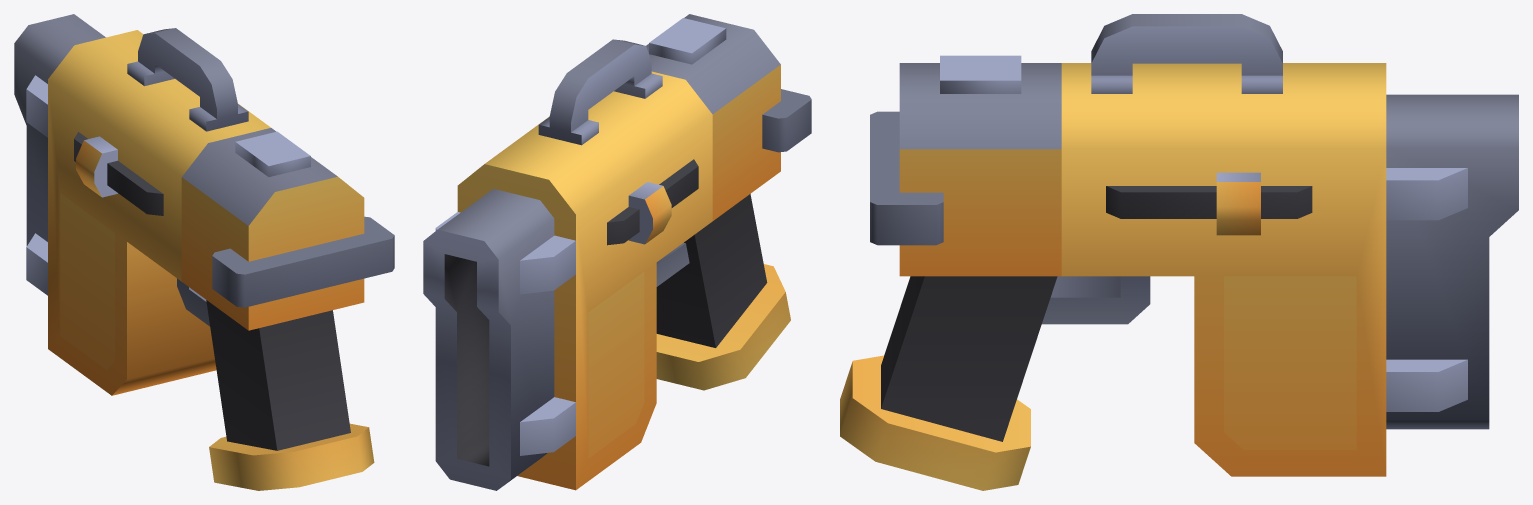
Rendered from revolver.glb.
3 views of the same model, side by side, from view 1: azimuth 30°, elevation 25°; view 2: azimuth 150°, elevation 25°; view 3: azimuth 270°, elevation 25° (orthographic). The views are drawn at different scales.
Parts seen in each view (by area): view 1: blaster-k; view 2: blaster-k; view 3: blaster-k.
Part boxes in pixels (bbox=[...]): blaster-k: bbox=[14, 14, 394, 490]; blaster-k: bbox=[423, 14, 811, 490]; blaster-k: bbox=[840, 14, 1518, 490].
Bounding box in the file's own units: 0.155 × 0.3338 × 0.4604.
Materials: 1 (1 with a texture image).
